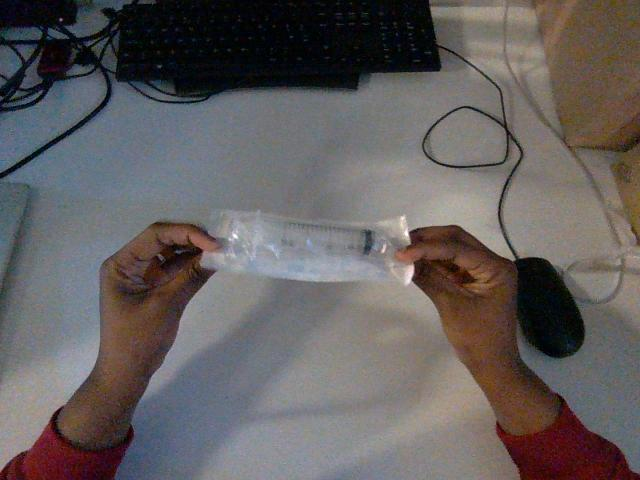syringe: (201, 210, 413, 284)
